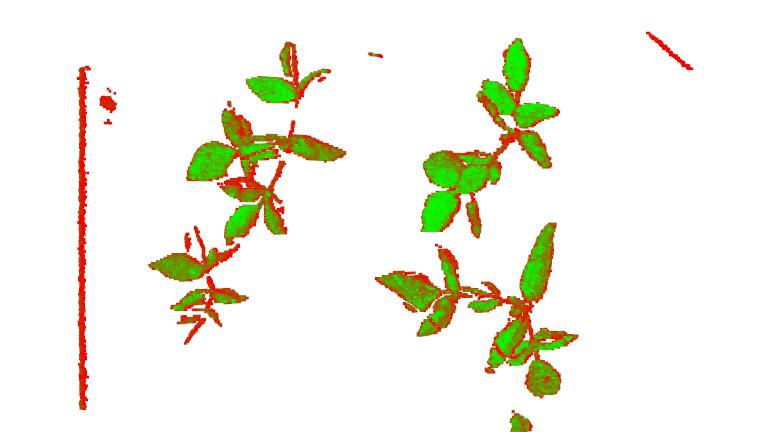mungbean: (373, 225, 582, 402), (188, 34, 343, 240), (414, 33, 564, 237), (149, 226, 255, 345)
